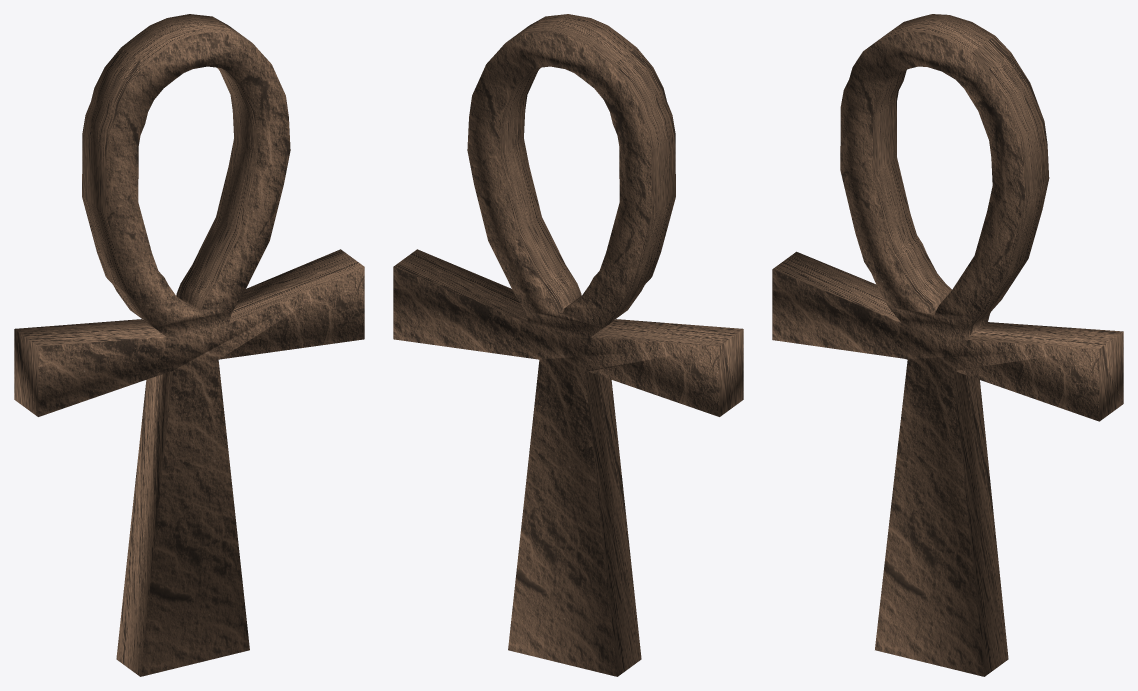
The model's file is Symbol.FBX.
3 views of the same model, side by side, from view 1: azimuth 30°, elevation 25°; view 2: azimuth 150°, elevation 25°; view 3: azimuth 330°, elevation 25° (orthographic).
Parts seen in each view (by area): view 1: Component#2_001; view 2: Component#2_001; view 3: Component#2_001.
Part boxes in pixels (<box>): Component#2_001: <box>14,14,364,676</box>; Component#2_001: <box>393,14,743,676</box>; Component#2_001: <box>772,14,1123,676</box>.
Bounding box in the file's own units: 1934 × 3561 × 247.
